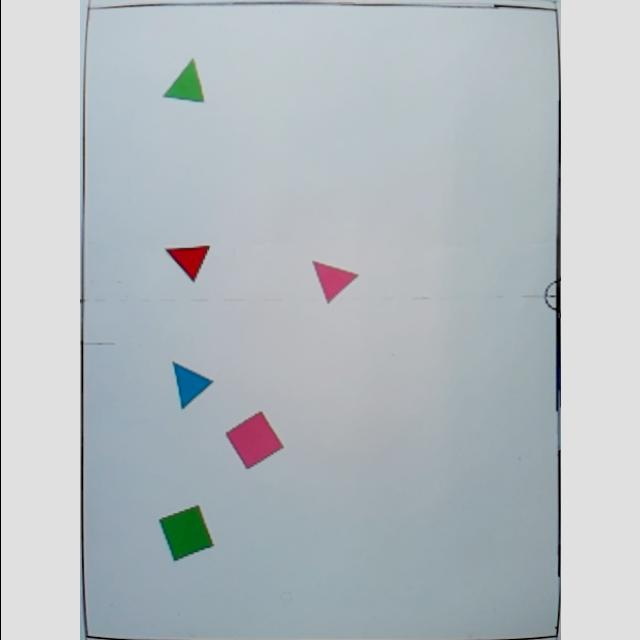blueTriangle: (170, 362, 216, 411)
greenSquare: (158, 506, 216, 562)
greenTriangle: (163, 56, 209, 106)
pinkSquare: (225, 411, 285, 471)
pinkTriangle: (310, 260, 360, 304)
redTriangle: (163, 242, 211, 284)
